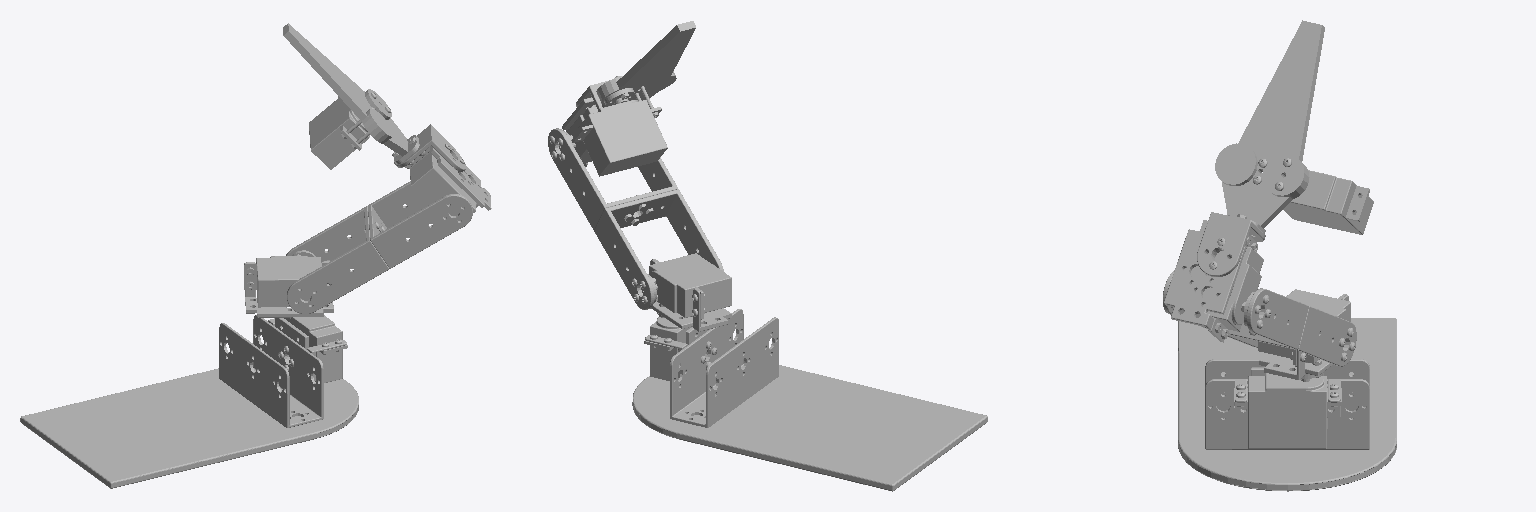
The robot description file, URDF, robot "manipulator_urdf":
<?xml version="1.0" encoding="utf-8"?>
<!-- This URDF was automatically created by SolidWorks to URDF Exporter! Originally created by [author] ([email redacted]) 
     Commit Version: 1.5.1-0-g916b5db  Build Version: 1.5.7152.31018
     For more information, please see http://wiki.ros.org/sw_urdf_exporter -->
<robot
  name="manipulator_urdf">
  <link
    name="base_link">
    <inertial>
      <origin
        xyz="-0.0317826974693588 2.52147140137882E-05 0.0117881861714087"
        rpy="0 0 0" />
      <mass
        value="0.176881837293305" />
      <inertia
        ixx="0.000162393145423334"
        ixy="3.43136691338957E-10"
        ixz="-6.44066105389166E-08"
        iyy="0.000432640777283136"
        iyz="-7.9449193758583E-08"
        izz="0.000579739365677316" />
    </inertial>
    <visual>
      <origin
        xyz="0 0 0"
        rpy="0 0 0" />
      <geometry>
        <mesh
          filename="package://manipulator_urdf/meshes/base_link.STL" />
      </geometry>
      <material
        name="">
        <color
          rgba="0.752941176470588 0.752941176470588 0.752941176470588 1" />
      </material>
    </visual>
    <collision>
      <origin
        xyz="0 0 0"
        rpy="0 0 0" />
      <geometry>
        <mesh
          filename="package://manipulator_urdf/meshes/base_link.STL" />
      </geometry>
    </collision>
  </link>
  <link
    name="link_joint_1">
    <inertial>
      <origin
        xyz="0.0202002190219897 0.0103492460411576 0.0792948712548255"
        rpy="0 0 0" />
      <mass
        value="0.0387771625478187" />
      <inertia
        ixx="5.76087655921681E-06"
        ixy="9.89204380549824E-07"
        ixz="-2.95038866262396E-08"
        iyy="7.27827839796863E-06"
        iyz="-5.60402371142119E-08"
        izz="1.07033727457369E-05" />
    </inertial>
    <visual>
      <origin
        xyz="0 0 0"
        rpy="0 0 0" />
      <geometry>
        <mesh
          filename="package://manipulator_urdf/meshes/link_joint_1.STL" />
      </geometry>
      <material
        name="">
        <color
          rgba="0.752941176470588 0.752941176470588 0.752941176470588 1" />
      </material>
    </visual>
    <collision>
      <origin
        xyz="0 0 0"
        rpy="0 0 0" />
      <geometry>
        <mesh
          filename="package://manipulator_urdf/meshes/link_joint_1.STL" />
      </geometry>
    </collision>
  </link>
  <joint
    name="joint_name_1"
    type="revolute">
    <origin
      xyz="0 0 0"
      rpy="0 0 0" />
    <parent
      link="base_link" />
    <child
      link="link_joint_1" />
    <axis
      xyz="0 0 1" />
    <limit
      lower="0"
      upper="0"
      effort="30"
      velocity="30" />
  </joint>
  <link
    name="link_joint_2">
    <inertial>
      <origin
        xyz="0.073870376469461 -0.0133408775129932 0.112059883518006"
        rpy="0 0 0" />
      <mass
        value="0.0289030129094584" />
      <inertia
        ixx="1.74382494346278E-05"
        ixy="-2.17688831008388E-06"
        ixz="-4.14340217795555E-06"
        iyy="1.45254254101949E-05"
        iyz="2.2131206061392E-06"
        izz="2.33751125932252E-05" />
    </inertial>
    <visual>
      <origin
        xyz="0 0 0"
        rpy="0 0 0" />
      <geometry>
        <mesh
          filename="package://manipulator_urdf/meshes/link_joint_2.STL" />
      </geometry>
      <material
        name="">
        <color
          rgba="0.752941176470588 0.752941176470588 0.752941176470588 1" />
      </material>
    </visual>
    <collision>
      <origin
        xyz="0 0 0"
        rpy="0 0 0" />
      <geometry>
        <mesh
          filename="package://manipulator_urdf/meshes/link_joint_2.STL" />
      </geometry>
    </collision>
  </link>
  <joint
    name="joint_name_2"
    type="revolute">
    <origin
      xyz="0 0 0"
      rpy="0 0 0" />
    <parent
      link="base_link" />
    <child
      link="link_joint_2" />
    <axis
      xyz="0.47114 0.88206 0" />
    <limit
      lower="0"
      upper="0"
      effort="30"
      velocity="30" />
  </joint>
  <link
    name="link_joint_3">
    <inertial>
      <origin
        xyz="0.0832005956849828 -0.0119304143230756 0.175233669309219"
        rpy="0 0 0" />
      <mass
        value="0.0968620842796283" />
      <inertia
        ixx="2.88548564017477E-05"
        ixy="1.05450918558511E-06"
        ixz="8.9938873879952E-06"
        iyy="3.00629779780838E-05"
        iyz="-4.66307872727807E-06"
        izz="2.684147960351E-05" />
    </inertial>
    <visual>
      <origin
        xyz="0 0 0"
        rpy="0 0 0" />
      <geometry>
        <mesh
          filename="package://manipulator_urdf/meshes/link_joint_3.STL" />
      </geometry>
      <material
        name="">
        <color
          rgba="0.752941176470588 0.752941176470588 0.752941176470588 1" />
      </material>
    </visual>
    <collision>
      <origin
        xyz="0 0 0"
        rpy="0 0 0" />
      <geometry>
        <mesh
          filename="package://manipulator_urdf/meshes/link_joint_3.STL" />
      </geometry>
    </collision>
  </link>
  <joint
    name="joint_name_3"
    type="revolute">
    <origin
      xyz="0 0 0"
      rpy="0 0 0" />
    <parent
      link="base_link" />
    <child
      link="link_joint_3" />
    <axis
      xyz="0.47114 0.88206 0" />
    <limit
      lower="0"
      upper="0"
      effort="30"
      velocity="30" />
  </joint>
</robot>

--- Facts derived from the render (not from the file) ---
Views: 3 orthographic renders of the robot side by side, from view 1: azimuth 30°, elevation 25°; view 2: azimuth 150°, elevation 25°; view 3: azimuth 270°, elevation 25°.
Robot: manipulator_urdf — 4 links, 3 joints (3 revolute); root link base_link; default pose: every joint at zero.
Links seen in each view (by area): view 1: base_link, link_joint_2, link_joint_3, link_joint_1; view 2: base_link, link_joint_3, link_joint_2, link_joint_1; view 3: base_link, link_joint_3, link_joint_2, link_joint_1.
Boxes of the visible links, box(x1,y1,x2,y2) form: base_link: box(20, 315, 358, 488); link_joint_2: box(286, 181, 472, 313); link_joint_3: box(283, 23, 491, 220); link_joint_1: box(244, 256, 333, 317); base_link: box(632, 309, 987, 491); link_joint_3: box(562, 21, 695, 176); link_joint_2: box(548, 128, 723, 309); link_joint_1: box(649, 253, 731, 331); base_link: box(1178, 318, 1396, 491); link_joint_3: box(1164, 20, 1373, 342); link_joint_2: box(1163, 270, 1356, 366); link_joint_1: box(1258, 289, 1350, 379).
Size in the robot's own frame: 0.2983 by 0.1283 by 0.2689 metres.
4 mesh visuals loaded from 4 distinct referenced files (4 binary STL).